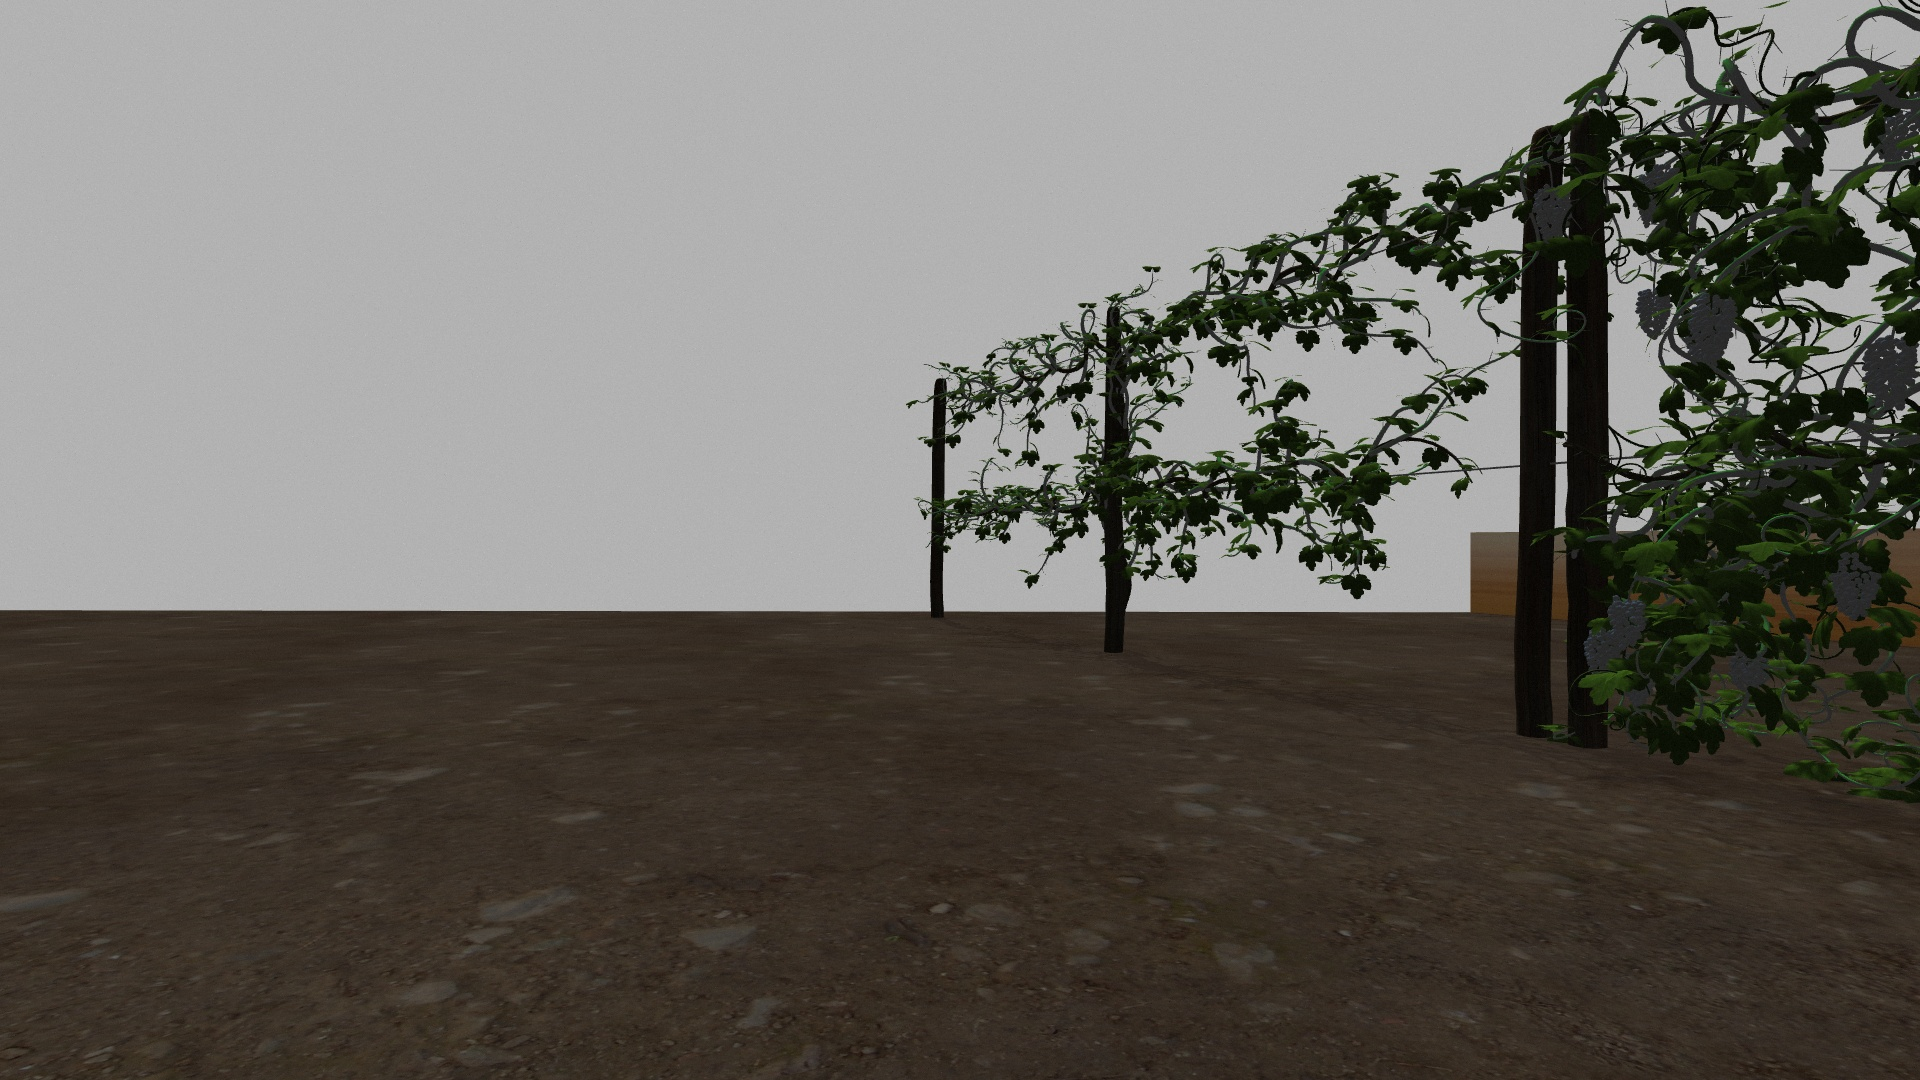grape: (1863, 332, 1915, 410), (1829, 551, 1880, 621), (1691, 293, 1737, 369), (1531, 185, 1571, 241), (1606, 596, 1647, 649), (1636, 287, 1673, 342), (1726, 650, 1768, 696), (1879, 113, 1916, 165), (1581, 630, 1611, 670)
